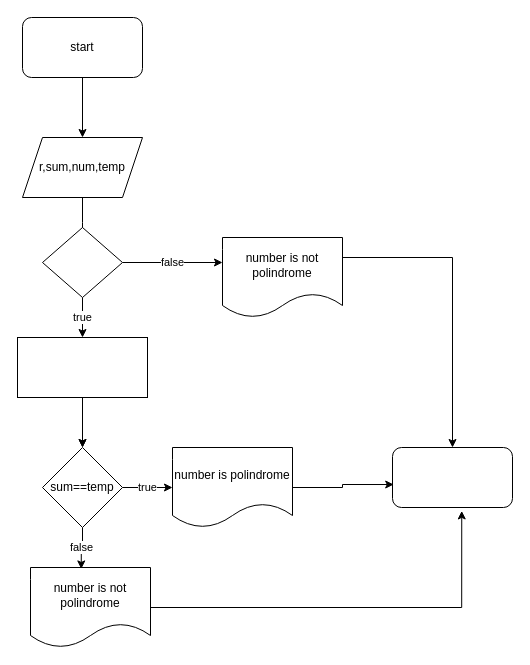
Some shapes in this 530 by 665 pixel diagram are drawn without their labels. The shapes that lost their labels are listed below. From the top down, each one's centre as x and y in pixels, then its label:
At point (82, 262): "num!=0".
At point (82, 367): "r=num%10; sum=(sum*10)+r; num=num/10".
At point (452, 477): "end".
